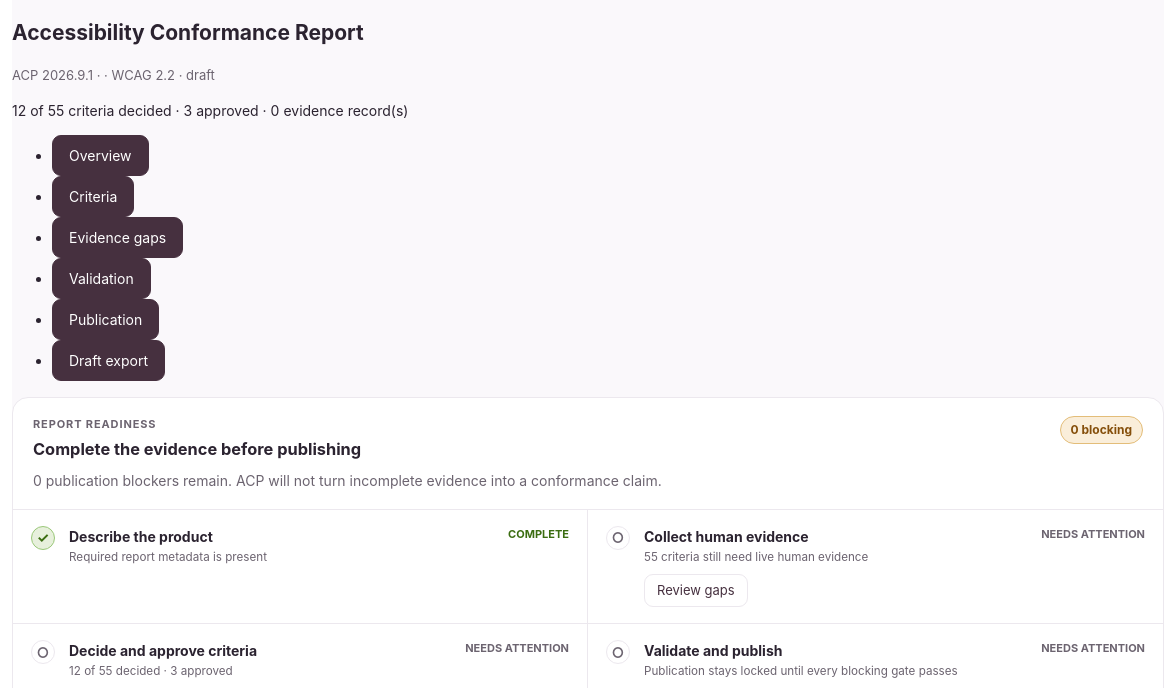
Scenario: the accessible Word download › says what it produces, including that it is not a VPAT
Click the button "Draft export" at (108, 360), box [52,340,165,381]
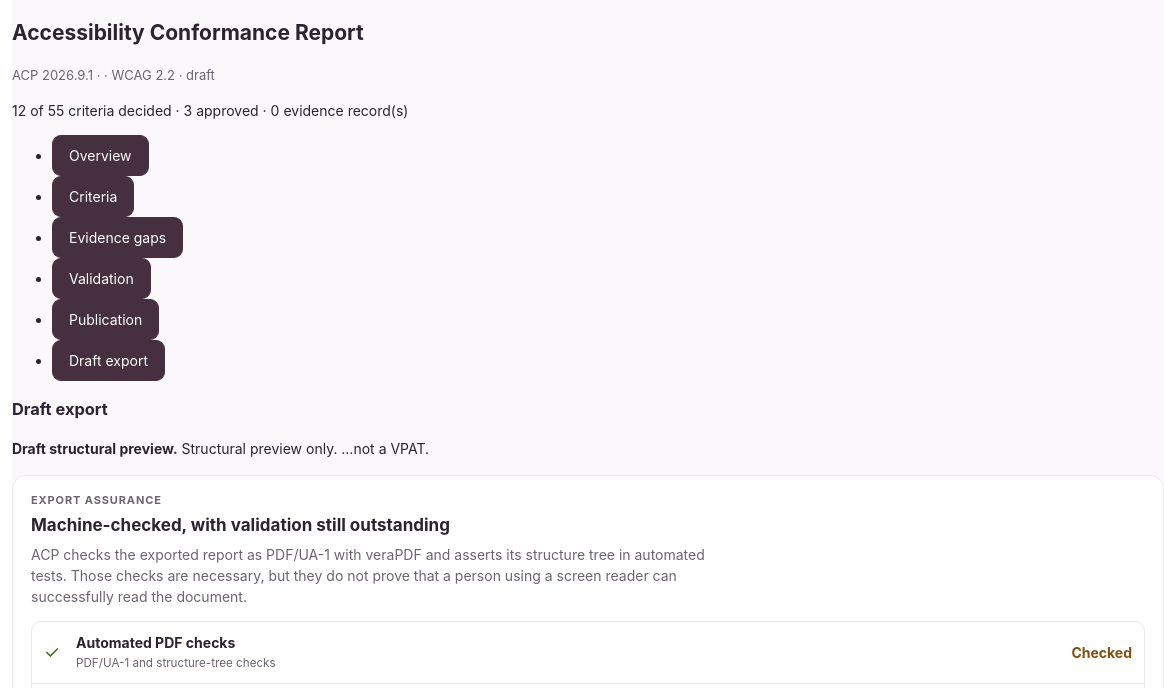
Expected: the text "not a VPAT" is shown, [182,440,429,457]
